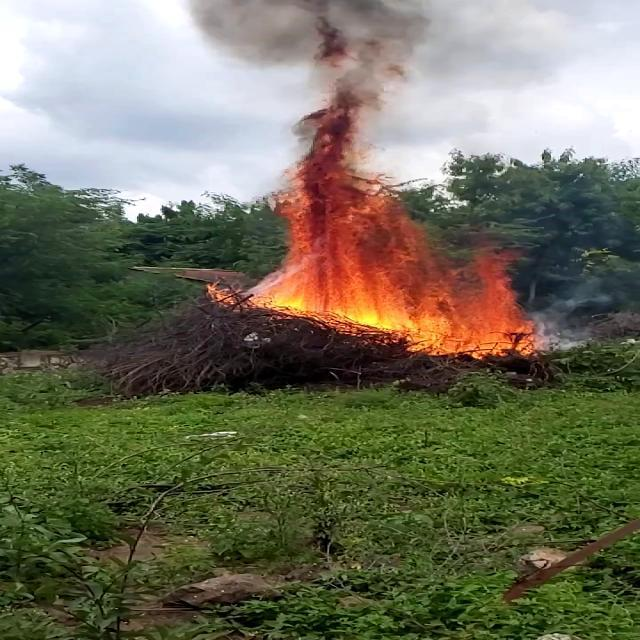Fire: (245, 228, 562, 355)
Smoke: (210, 0, 444, 209)
